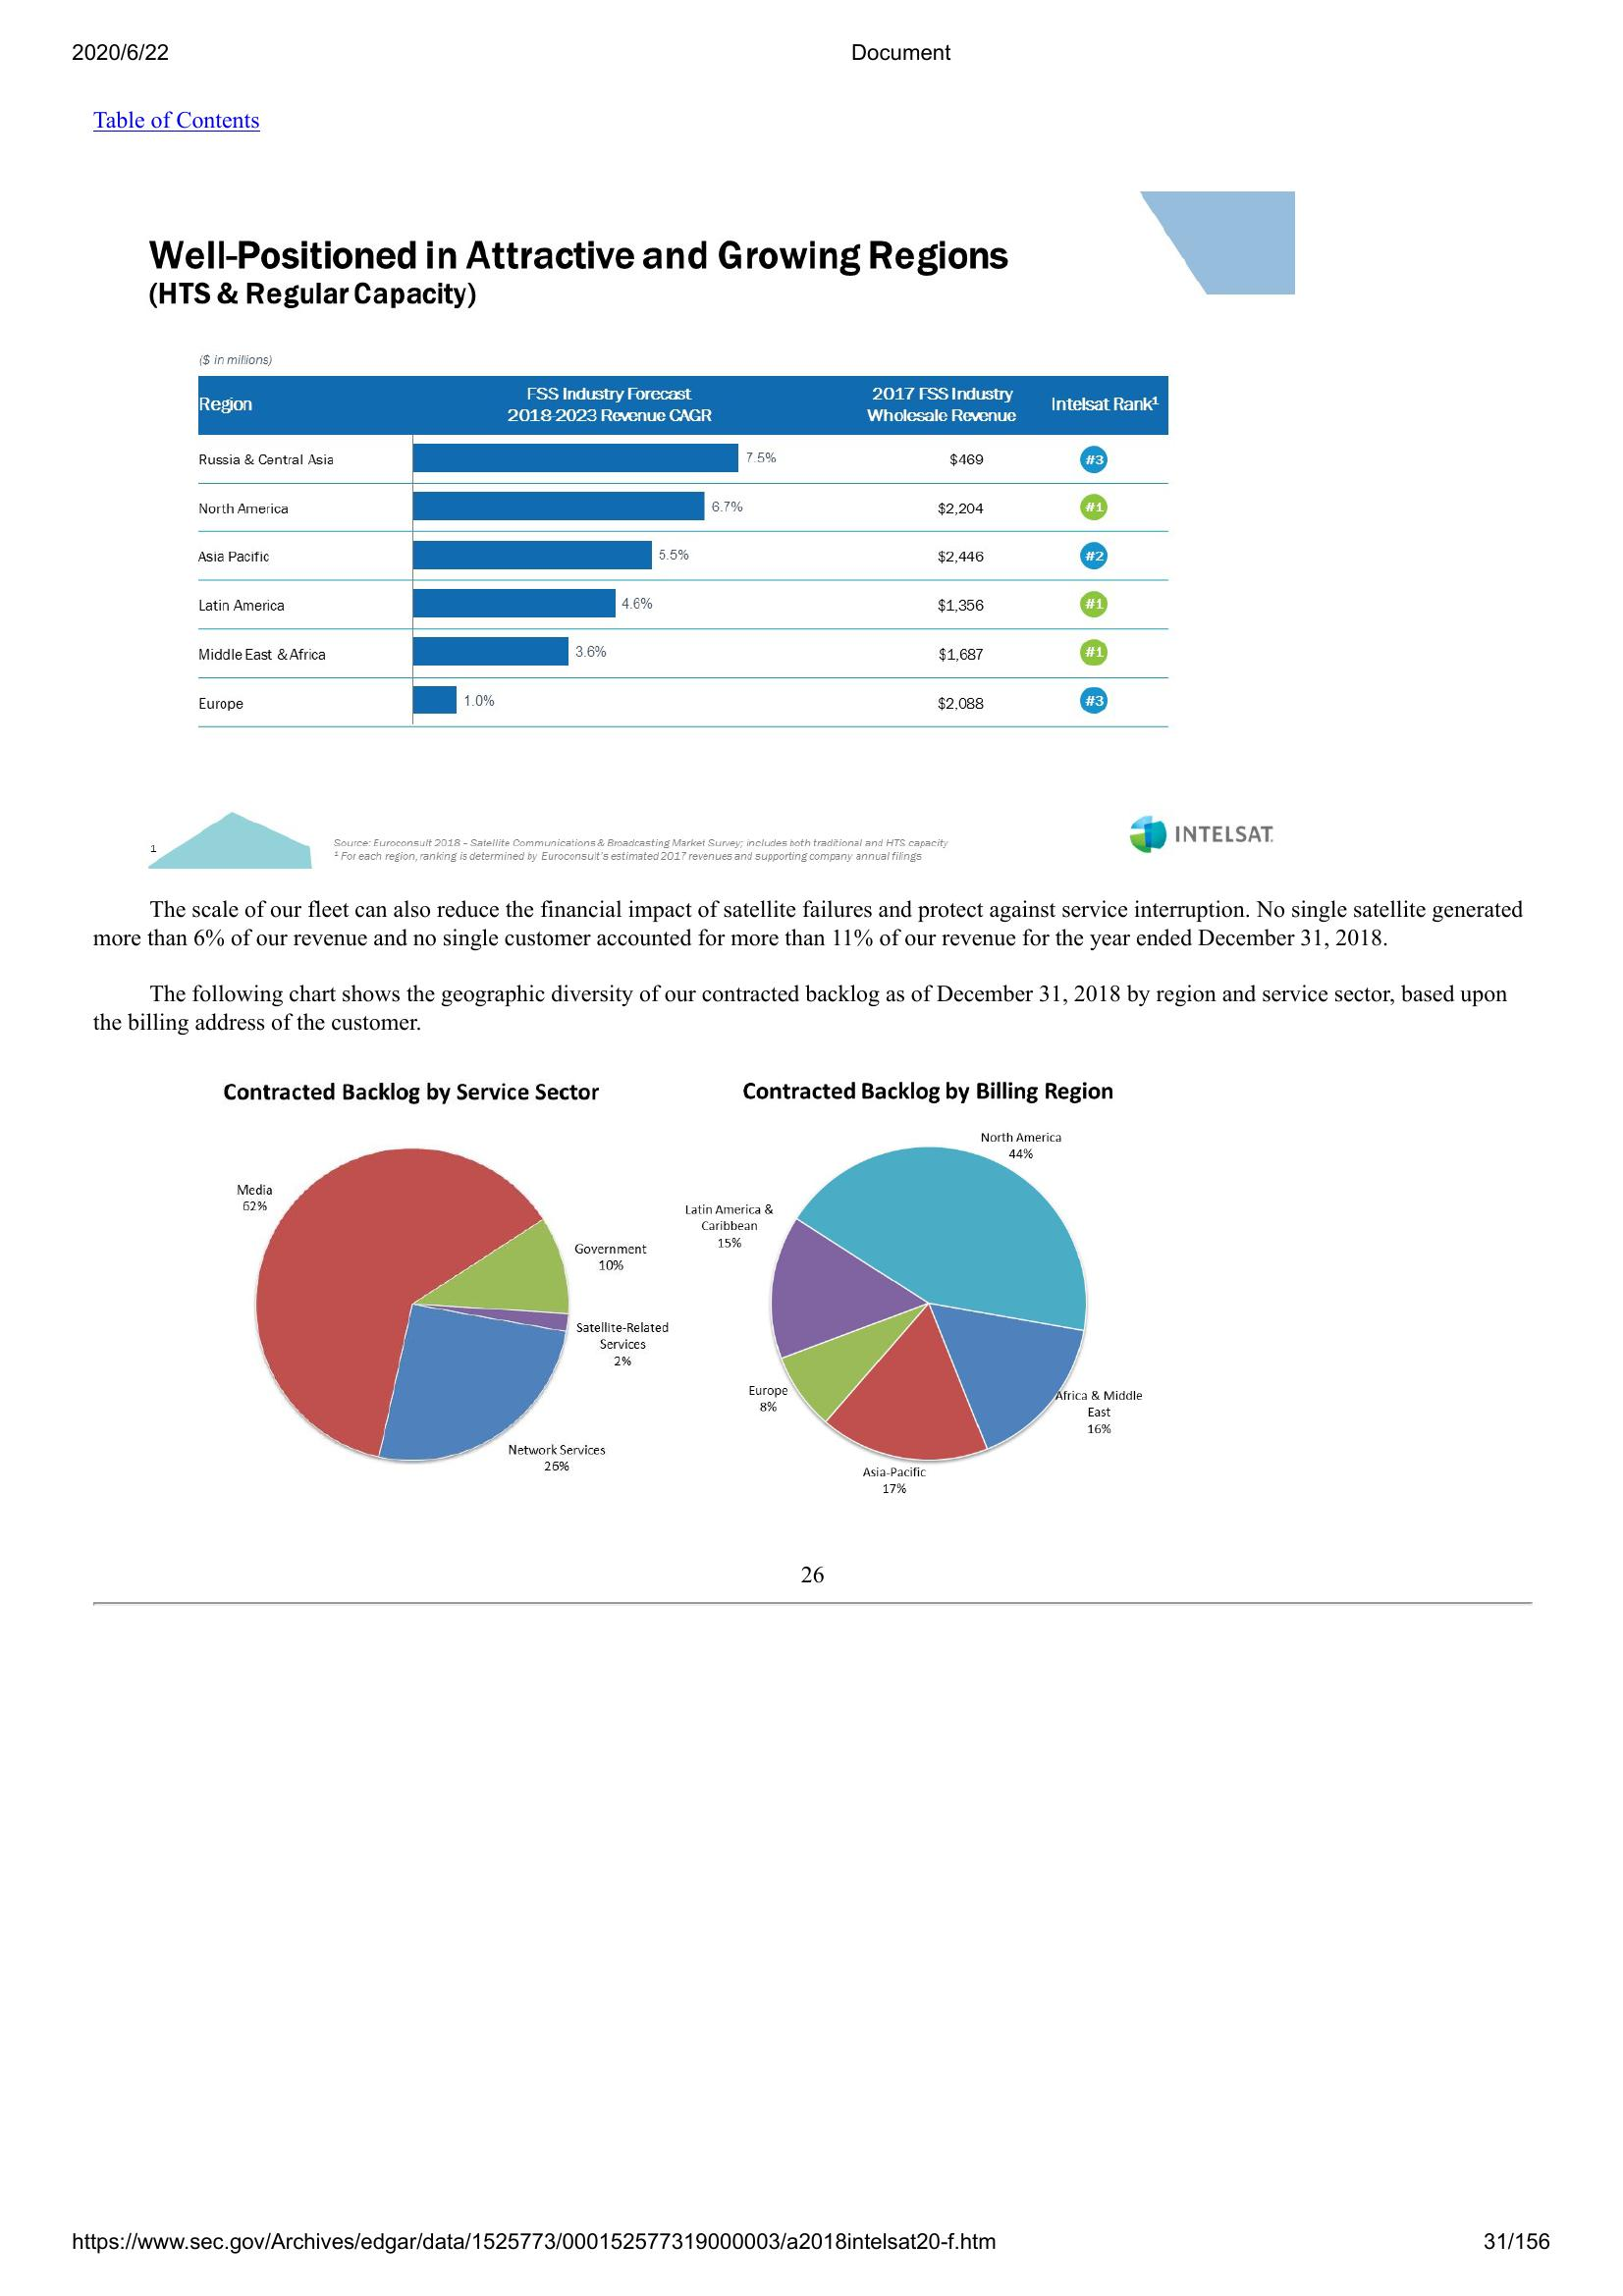table: (195, 372, 1175, 734)
